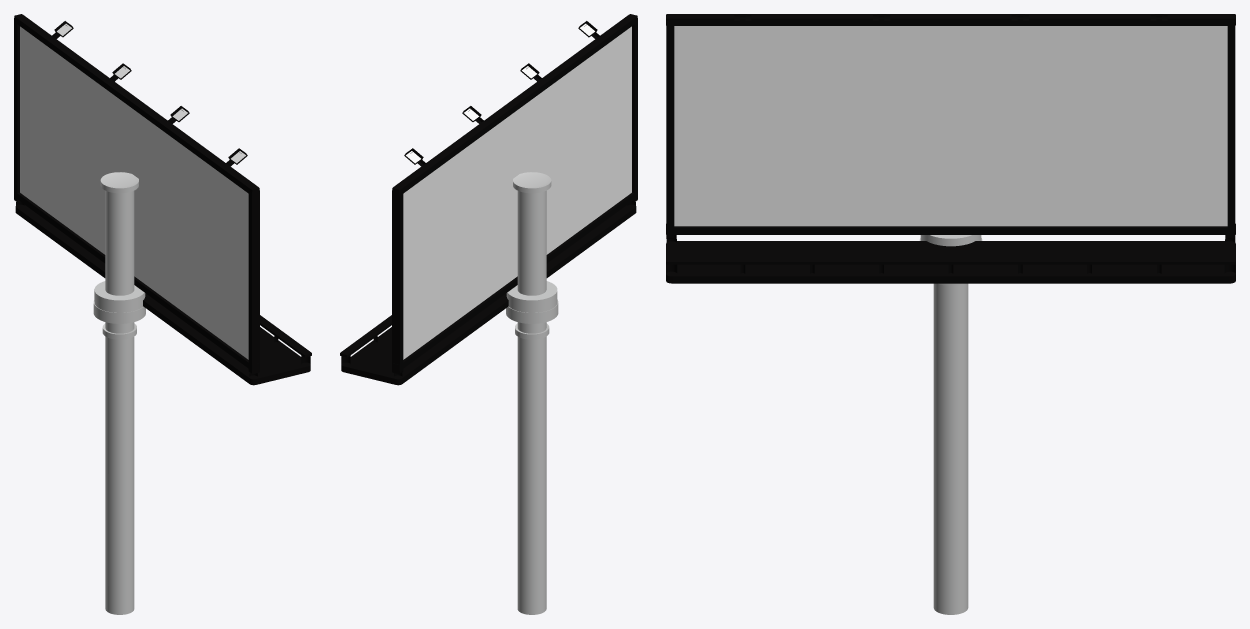
Rendered from billboard.fbx.
3 renders of one model, left to right at view 1: azimuth 30°, elevation 25°; view 2: azimuth 150°, elevation 25°; view 3: azimuth 270°, elevation 25°, orthographic. The views are drawn at different scales.
Parts seen in each view (by area): view 1: Cube.005, Cube.001, Cylinder, Cube.009; view 2: Cube.005, Cube.001, Cylinder, Cube.009; view 3: Cube.005, Cube.001, Cylinder.
Boxes of the visible parts, bbox=[...] form: Cube.005: bbox=[20, 26, 248, 359]; Cube.001: bbox=[14, 14, 311, 385]; Cylinder: bbox=[93, 172, 145, 614]; Cube.009: bbox=[57, 23, 245, 163]; Cube.005: bbox=[403, 26, 631, 359]; Cube.001: bbox=[340, 14, 637, 385]; Cylinder: bbox=[506, 172, 558, 614]; Cube.009: bbox=[406, 23, 594, 163]; Cube.005: bbox=[674, 26, 1227, 226]; Cube.001: bbox=[666, 14, 1235, 283]; Cylinder: bbox=[919, 235, 982, 614].
Size of the model in its own units: 767 by 3904 by 3285.
